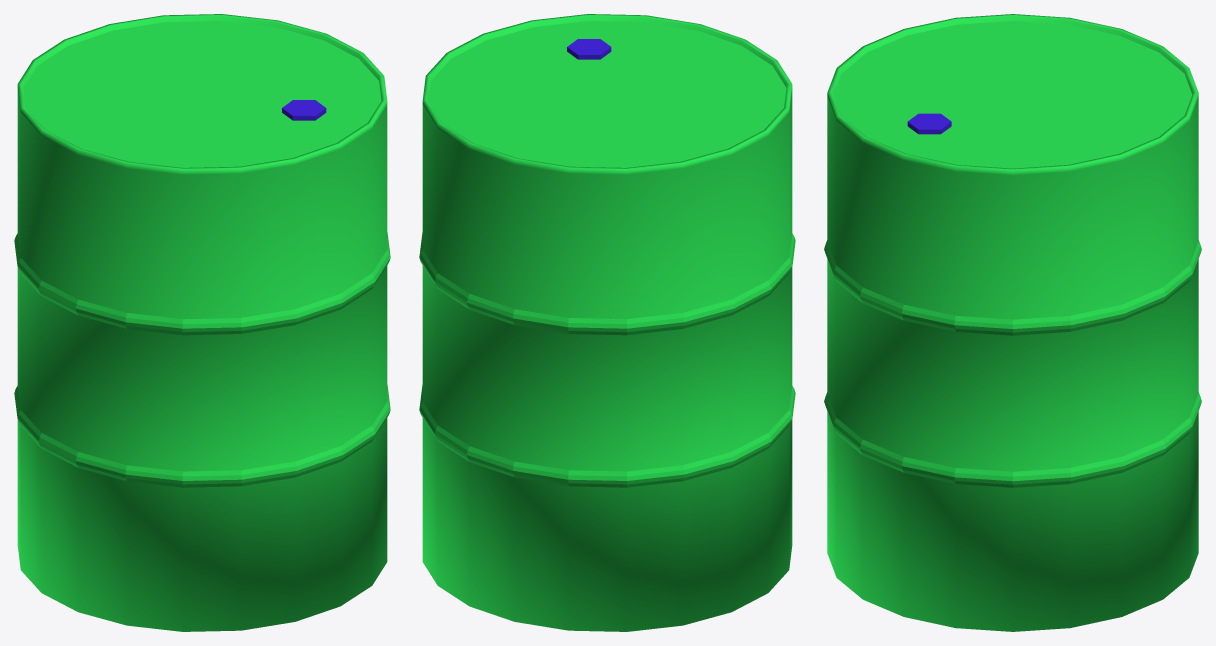
File: TonelNormal.fbx
3 renders of one model, left to right at view 1: azimuth 30°, elevation 25°; view 2: azimuth 150°, elevation 25°; view 3: azimuth 270°, elevation 25°, orthographic.
Parts seen in each view (by area): view 1: Tonel, Tampa_Tonel; view 2: Tonel, Tampa_Tonel; view 3: Tonel, Tampa_Tonel.
Boxes of the visible parts, left/top/right/bottom form: Tonel: left=14, top=14, right=390, bottom=631; Tampa_Tonel: left=282, top=100, right=326, bottom=120; Tonel: left=419, top=14, right=795, bottom=631; Tampa_Tonel: left=567, top=39, right=611, bottom=59; Tonel: left=824, top=14, right=1201, bottom=631; Tampa_Tonel: left=907, top=113, right=951, bottom=134.
Size of the model in its own units: 69.85 by 94.06 by 69.85.
